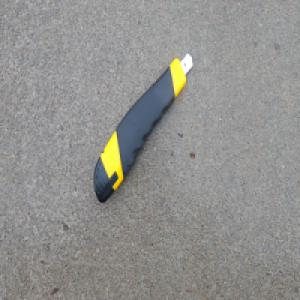Cutter: (92, 49, 194, 204)
